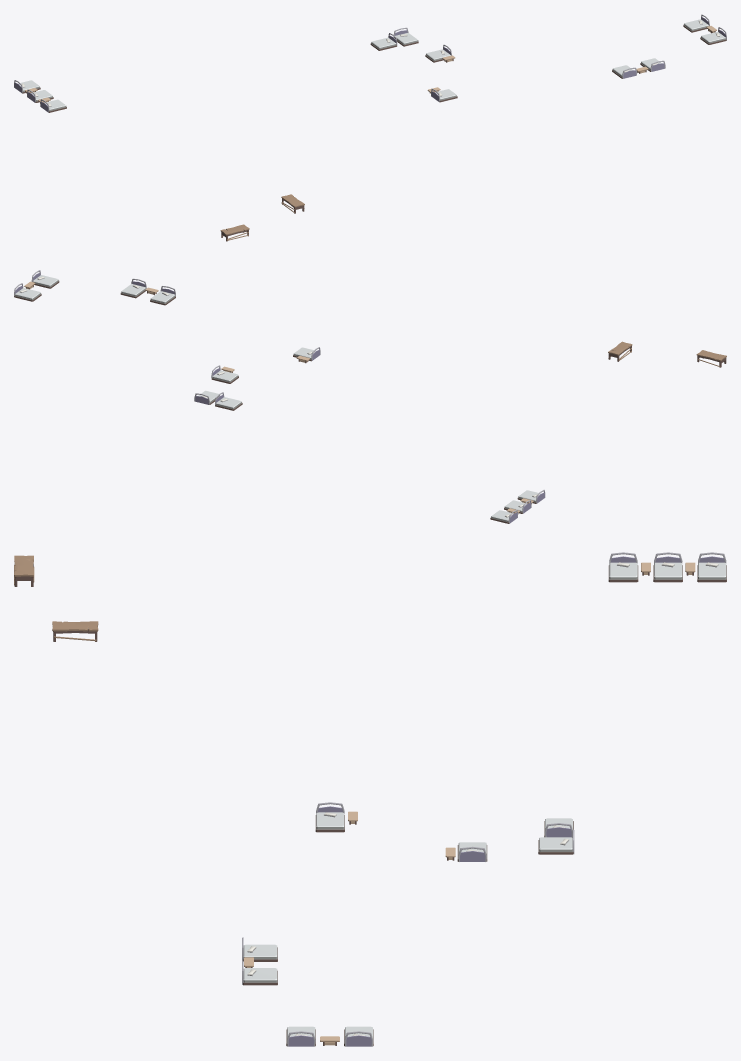
3 views of the same model, one above another, from view 1: azimuth 30°, elevation 25°; view 2: azimuth 150°, elevation 25°; view 3: azimuth 270°, elevation 25° (orthographic). The views are drawn at different scales.
Parts seen in each view (by area): view 1: Object_v01_Combine; view 2: Object_v01_Combine; view 3: Object_v01_Combine.
Part boxes in pixels (x1,y1,x2,y2): Object_v01_Combine: (14, 14, 726, 241); Object_v01_Combine: (14, 270, 726, 523); Object_v01_Combine: (14, 552, 726, 1046).
Bounding box in the file's own units: 8060 × 116 × 5064.
